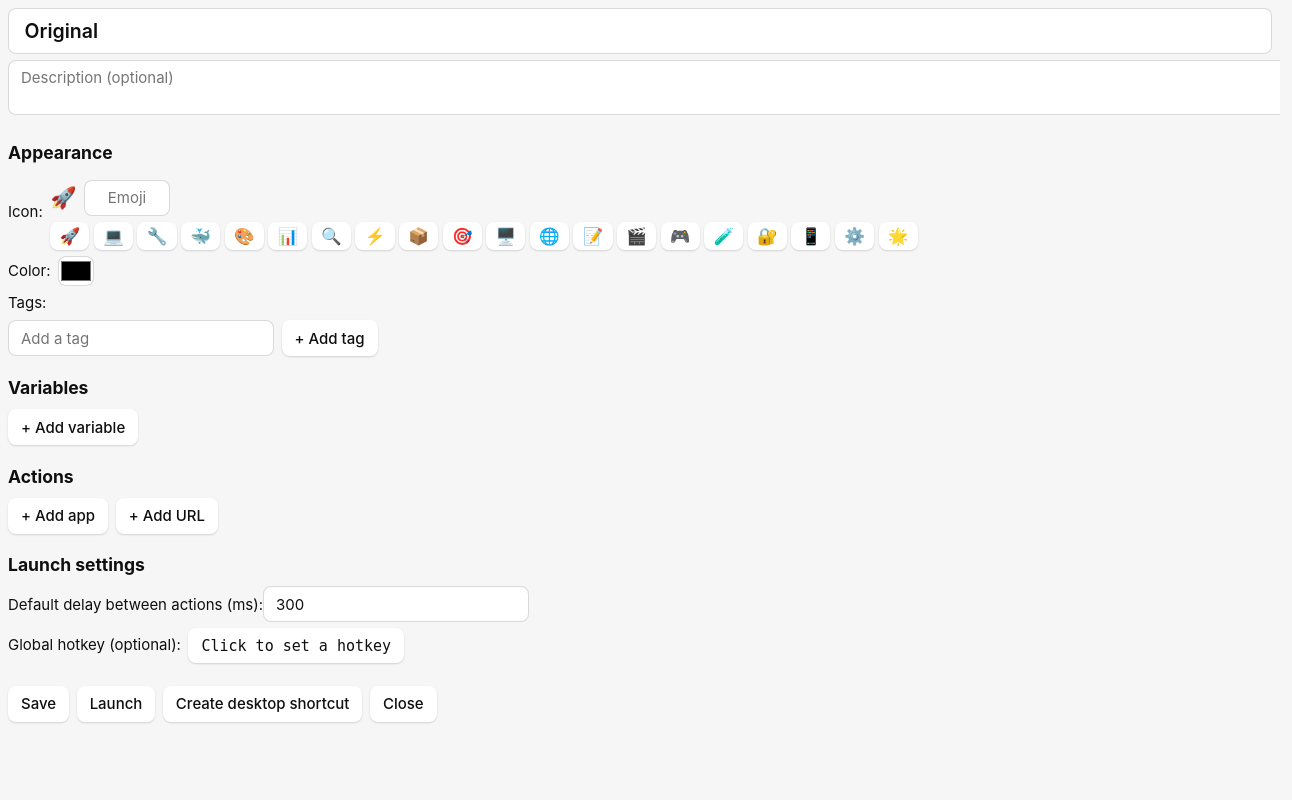
Test: WorkspaceEditor › shows no unsaved-edits hint launching right after Save (#9)
Replace the text in the field with placeholder "Workspace name" with "Edited": [640, 31] box [8,8,1272,54]
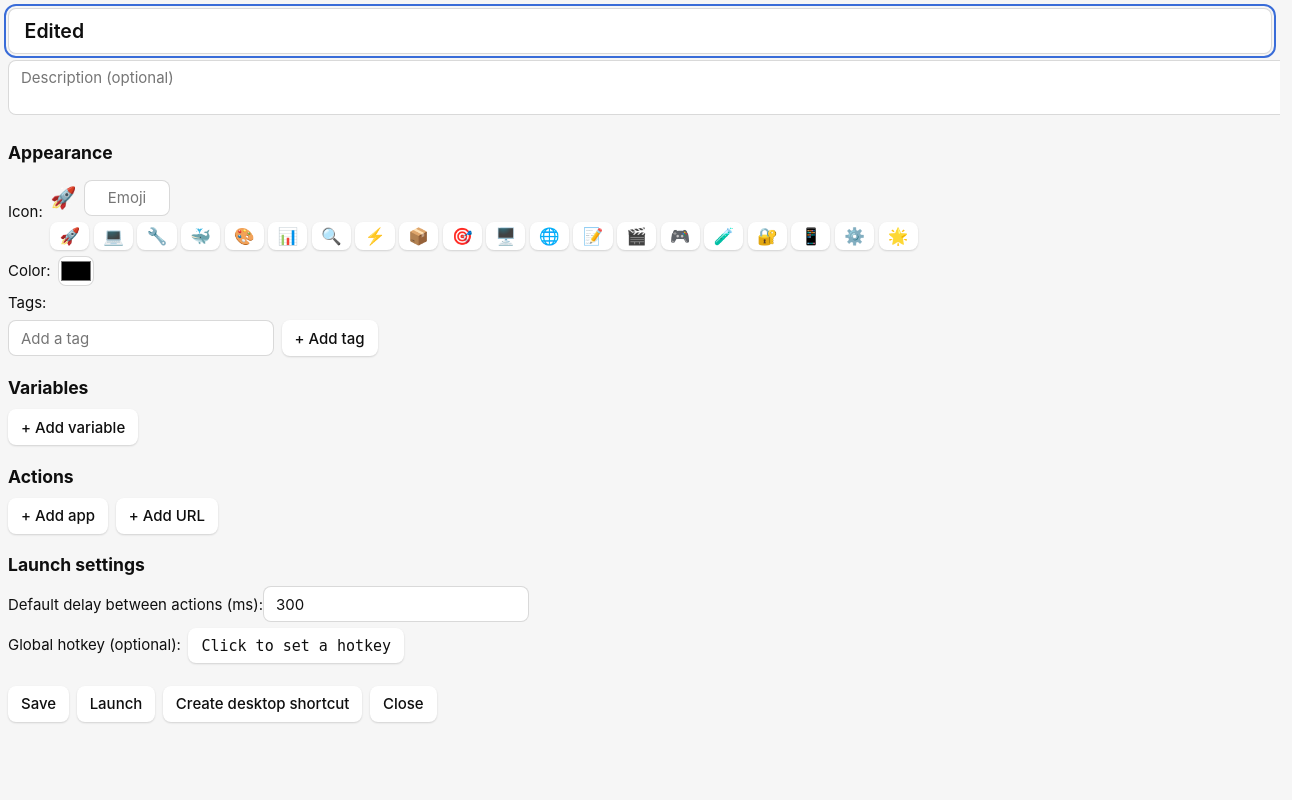
Click the button "Save": [39, 704] box [8,686,69,722]
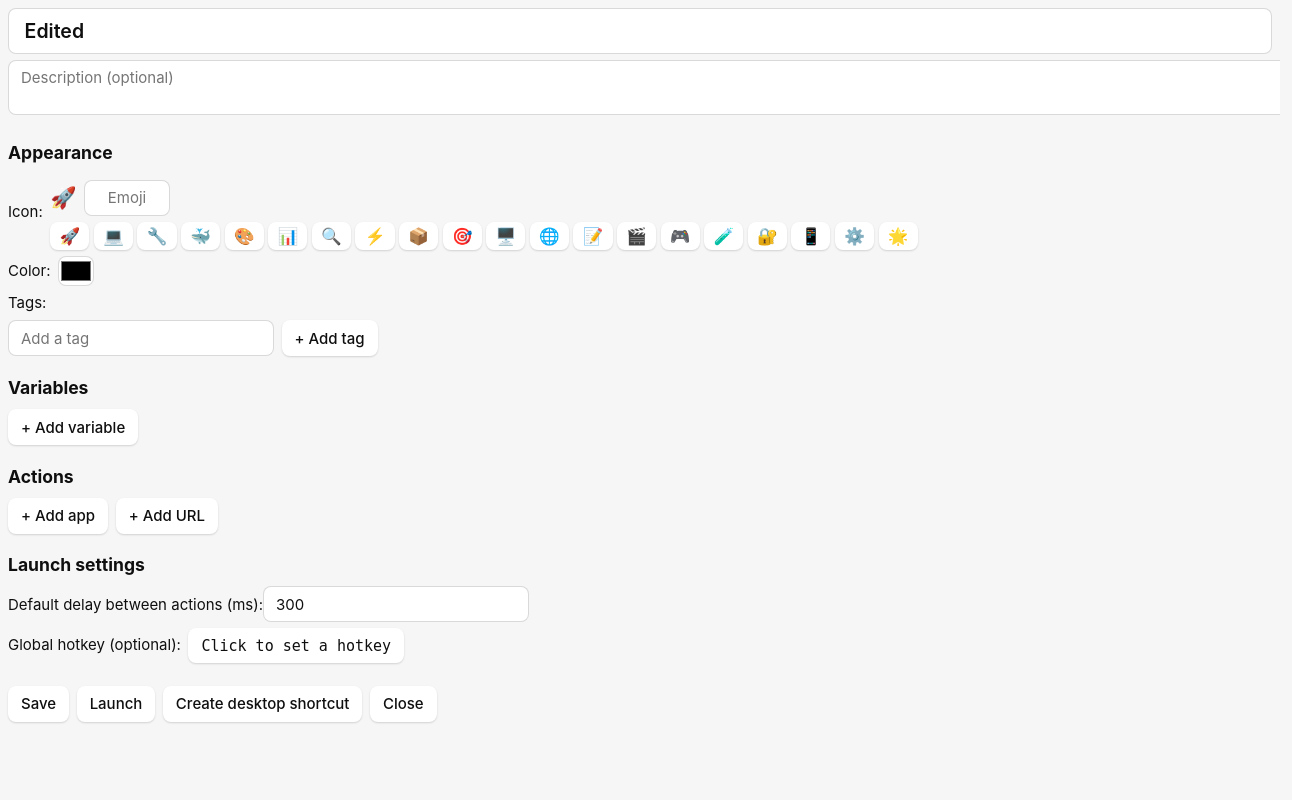
Click the button "Launch": [116, 704] box [77,686,155,722]
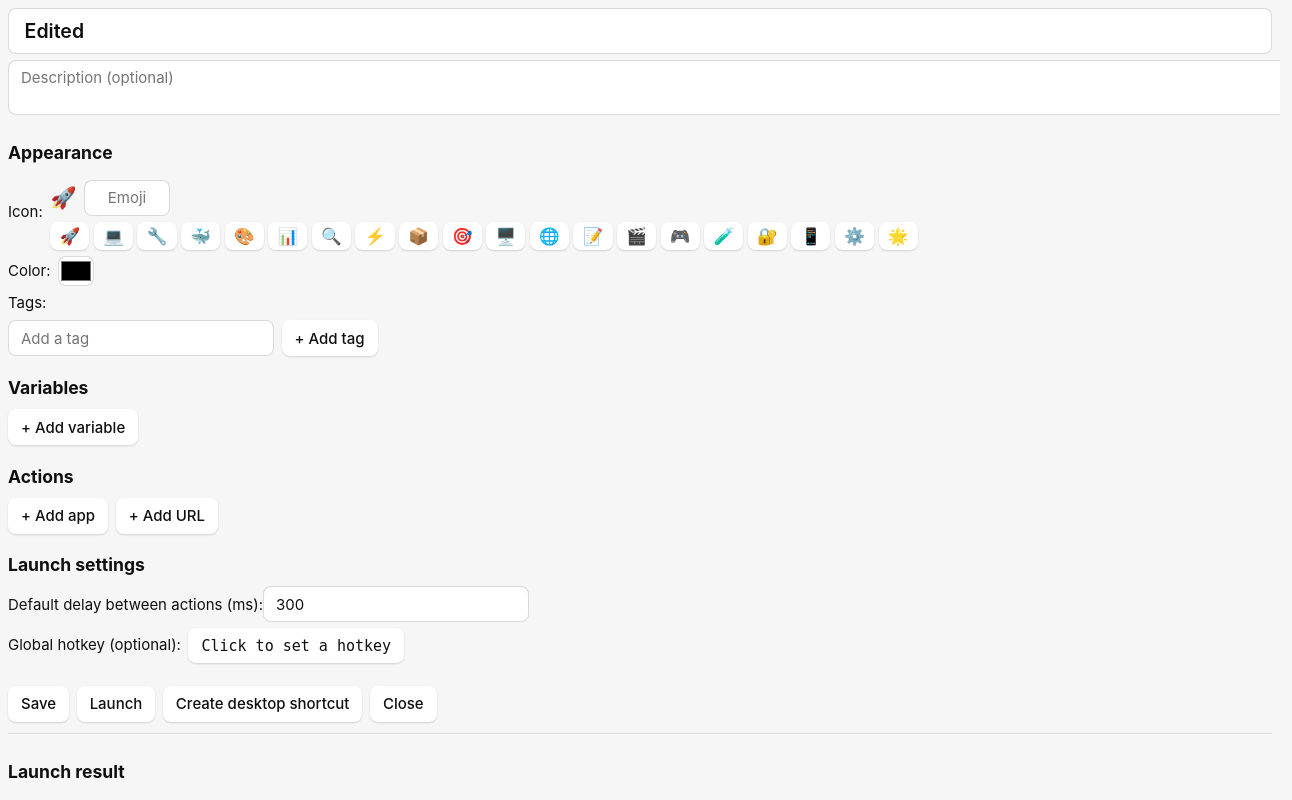
Expected: the heading "Launch result" is shown, [8,761,125,782]
